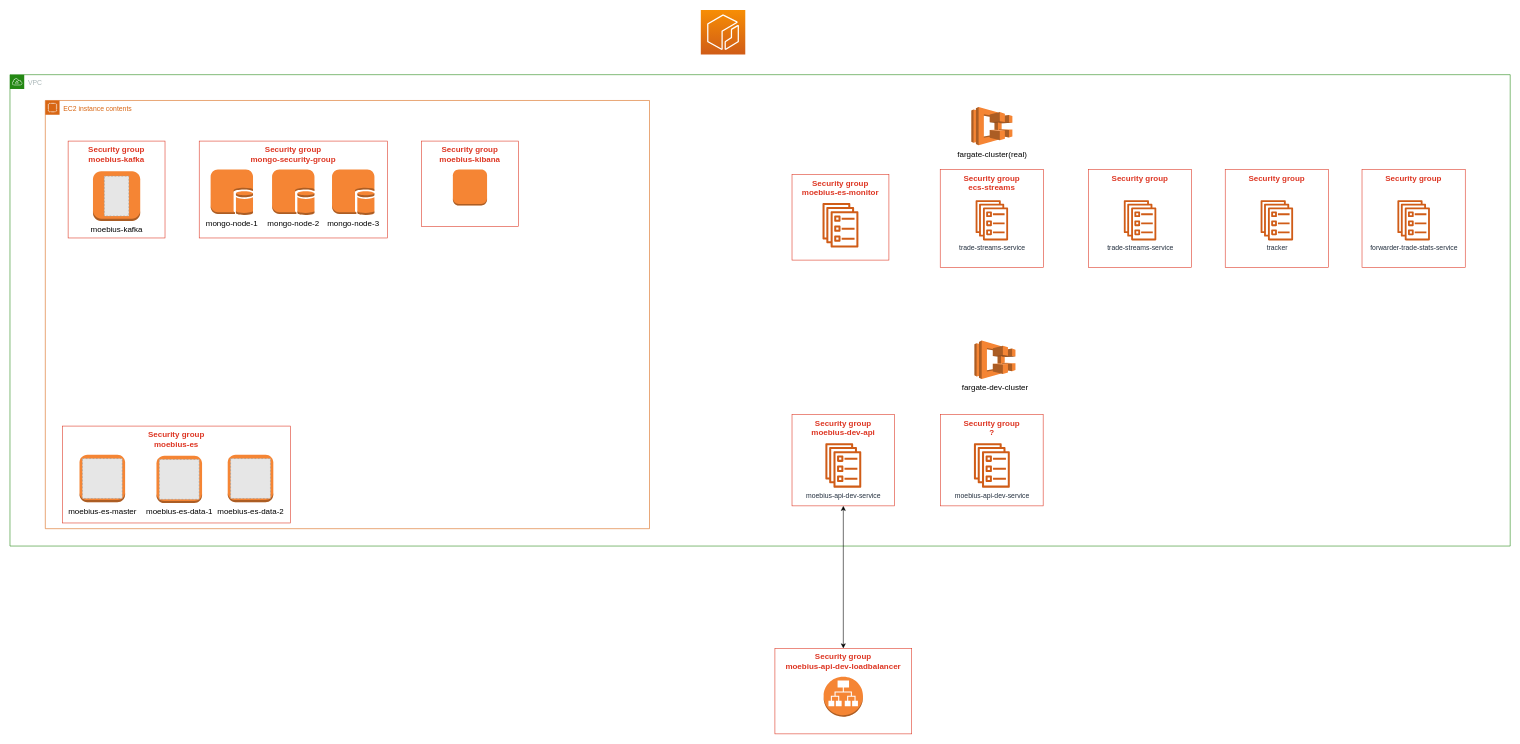
Some shapes in this 1520 by 744 pixel diagram are drawn without their labels. Grey dashed boxes stand in for pictures. Here are the shapes that lost their labels. From the top down, the centre of each, then its label:
(x=722, y=31): ECR
(x=469, y=187): moebius-kibana
(x=840, y=225): es-monitor-service
(x=843, y=696): moebius-dev-api
